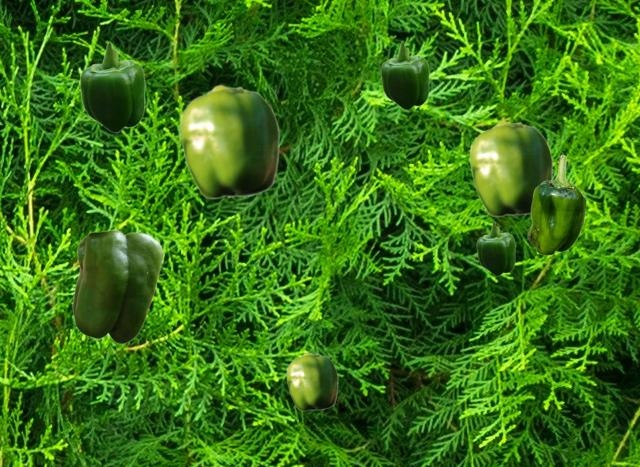bell_pepper: (179, 84, 279, 198), (72, 229, 162, 343), (469, 120, 552, 216), (79, 41, 144, 132), (527, 154, 585, 254), (380, 41, 428, 109), (286, 352, 337, 410), (476, 221, 514, 275)
